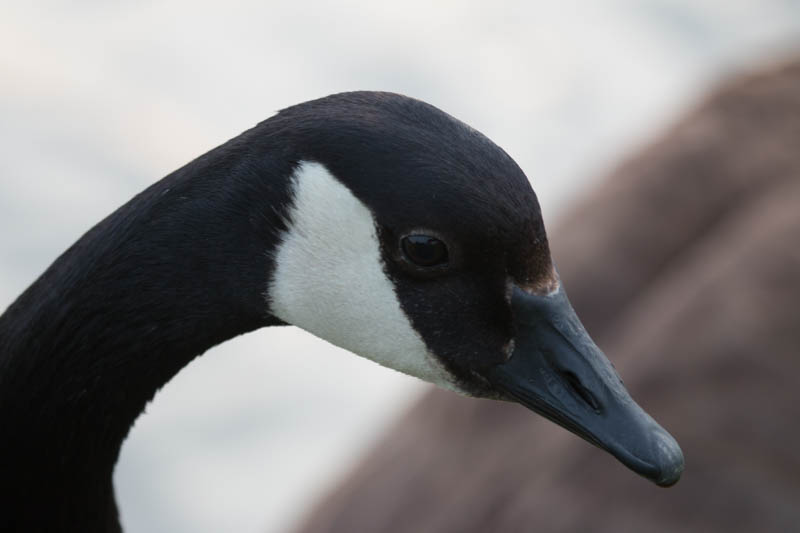goose-head: (236, 90, 687, 491)
